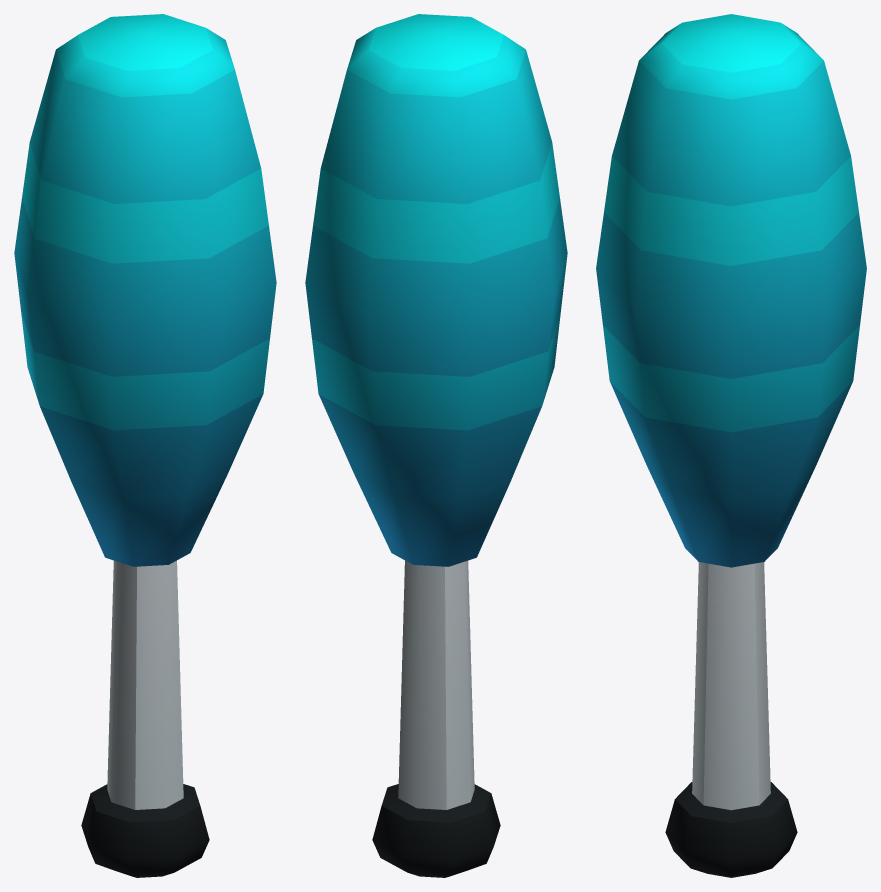
Rendered from juggling_pin_blue.obj.
3 renders of one model, left to right at view 1: azimuth 30°, elevation 25°; view 2: azimuth 150°, elevation 25°; view 3: azimuth 270°, elevation 25°, orthographic.
Visible parts, largest first — view 1: juggling_pin_blue; view 2: juggling_pin_blue; view 3: juggling_pin_blue.
Part boxes in pixels (<box>): juggling_pin_blue: <box>14,14,276,877</box>; juggling_pin_blue: <box>305,14,567,877</box>; juggling_pin_blue: <box>596,14,866,877</box>.
Bounding box in the file's own units: 0.373 × 1.26 × 0.373.
Materials: 1 (1 with a texture image).
